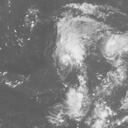cyclone: (53, 40, 86, 78)
